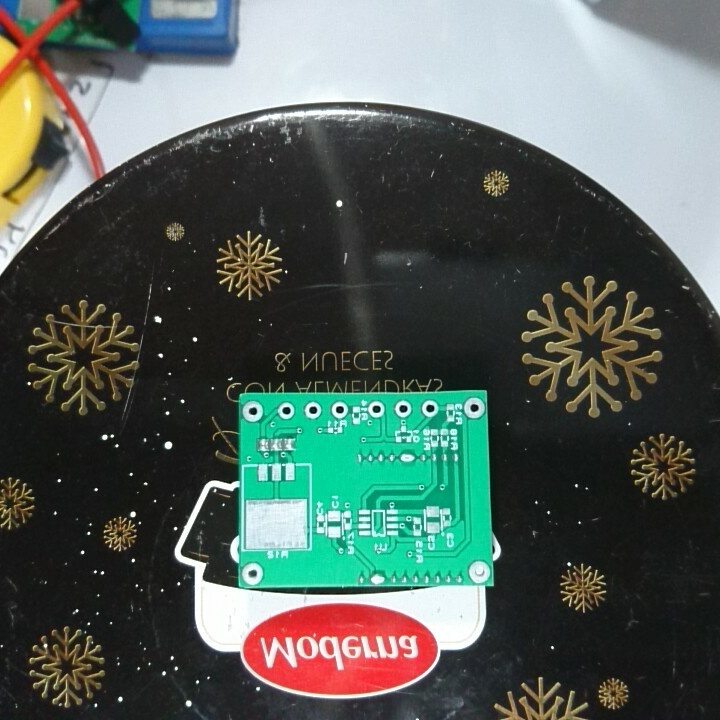F: (465, 559, 492, 584), (461, 395, 487, 420), (241, 561, 265, 586), (241, 401, 267, 423), (277, 400, 297, 423), (420, 398, 442, 418), (328, 400, 350, 419), (366, 400, 387, 419), (302, 401, 323, 419), (393, 399, 414, 417)
P: (367, 570, 388, 587), (398, 450, 417, 466)
